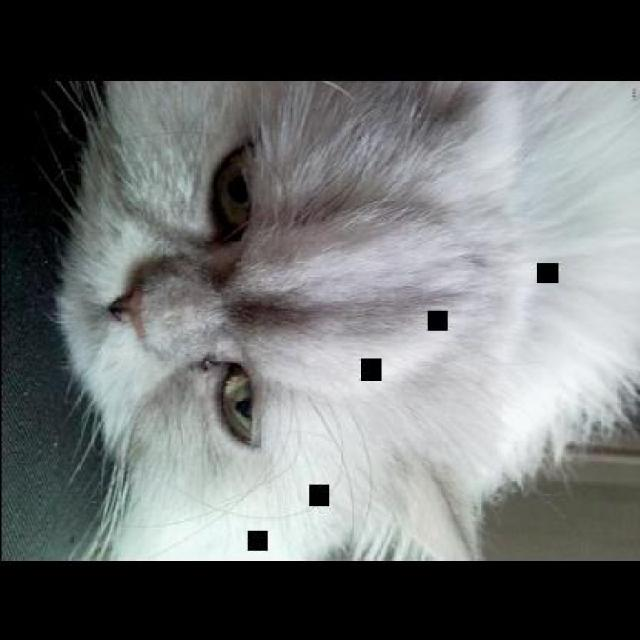unauthorized: (36, 77, 638, 560)
